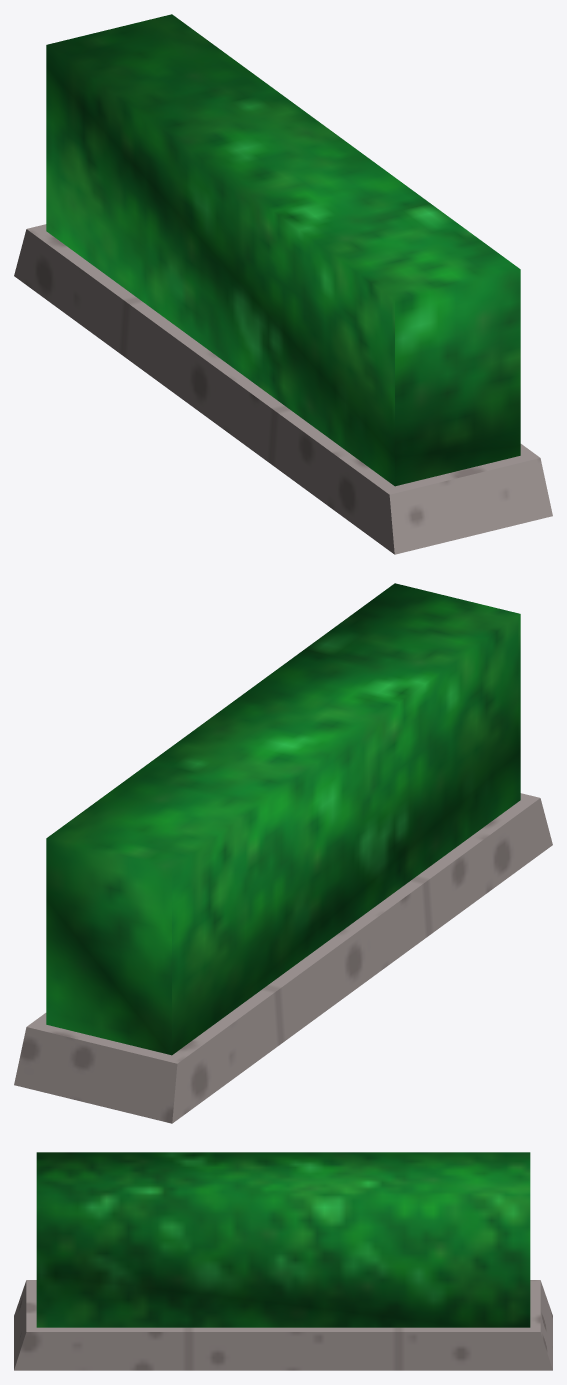
File: building_garden01.FBX
3 renders of one model, top to bottom at view 1: azimuth 30°, elevation 25°; view 2: azimuth 150°, elevation 25°; view 3: azimuth 270°, elevation 25°, orthographic. The views are drawn at different scales.
Visible parts, largest first — view 1: building_garden01; view 2: building_garden01; view 3: building_garden01.
Part boxes in pixels (x1,y1,x2,y2): building_garden01: (14,14,552,554); building_garden01: (14,583,552,1123); building_garden01: (14,1152,552,1370).
Size of the model in its own units: 68.8 by 99.25 by 287.
